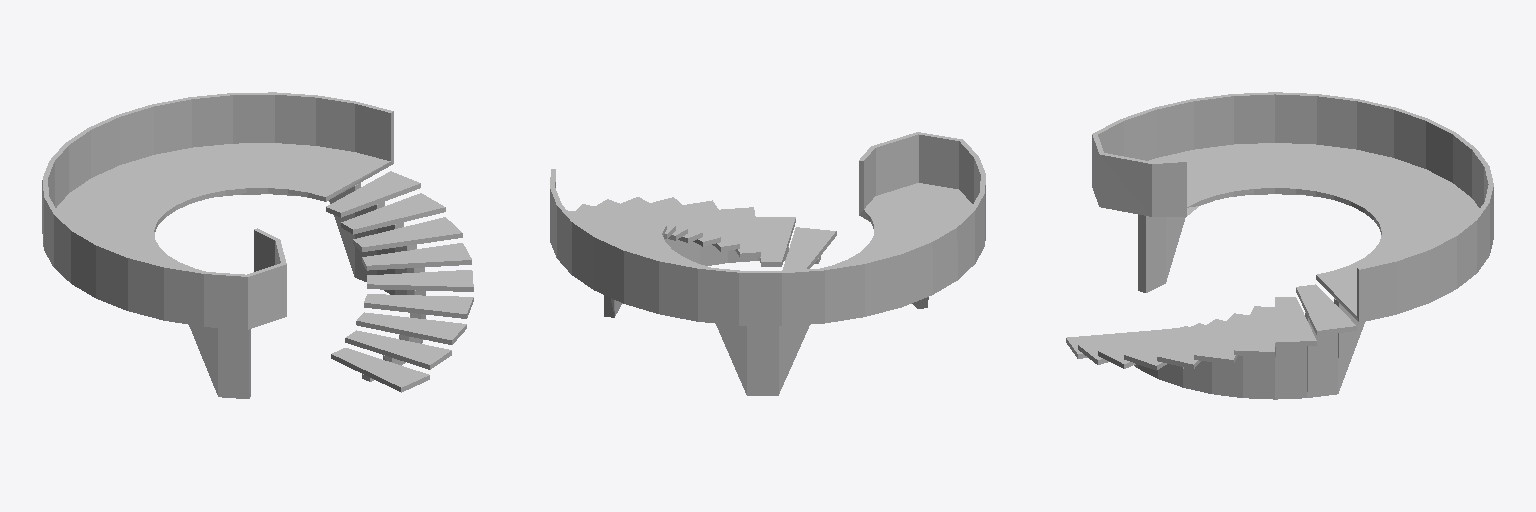
The model's file is admin platform.obj.
The picture shows the model from 3 angles: view 1: azimuth 30°, elevation 25°; view 2: azimuth 150°, elevation 25°; view 3: azimuth 270°, elevation 25°; orthographic projection.
Parts seen in each view (by area): view 1: Cube.016_Cube.019, Cube.017_Cube.020; view 2: Cube.016_Cube.019, Cube.017_Cube.020; view 3: Cube.016_Cube.019, Cube.017_Cube.020.
Part boxes in pixels (x1,y1,x2,y2): Cube.016_Cube.019: (42, 92, 473, 392); Cube.017_Cube.020: (189, 183, 425, 398); Cube.016_Cube.019: (550, 132, 985, 325); Cube.017_Cube.020: (604, 239, 928, 395); Cube.016_Cube.019: (1066, 92, 1493, 370); Cube.017_Cube.020: (1134, 193, 1364, 399).
Size of the model in its own units: 8.1 by 3 by 8.03.